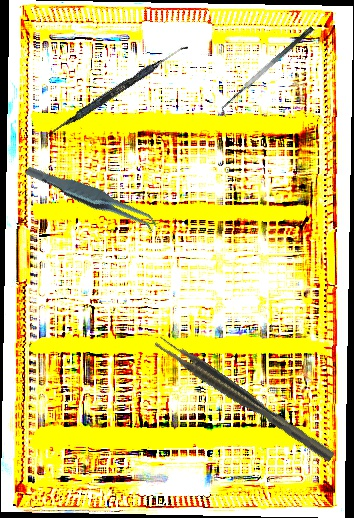Spatula Surgical: (47, 40, 189, 140), (215, 25, 321, 118)
Tissue Forceps: (152, 332, 336, 468), (24, 141, 160, 255)
